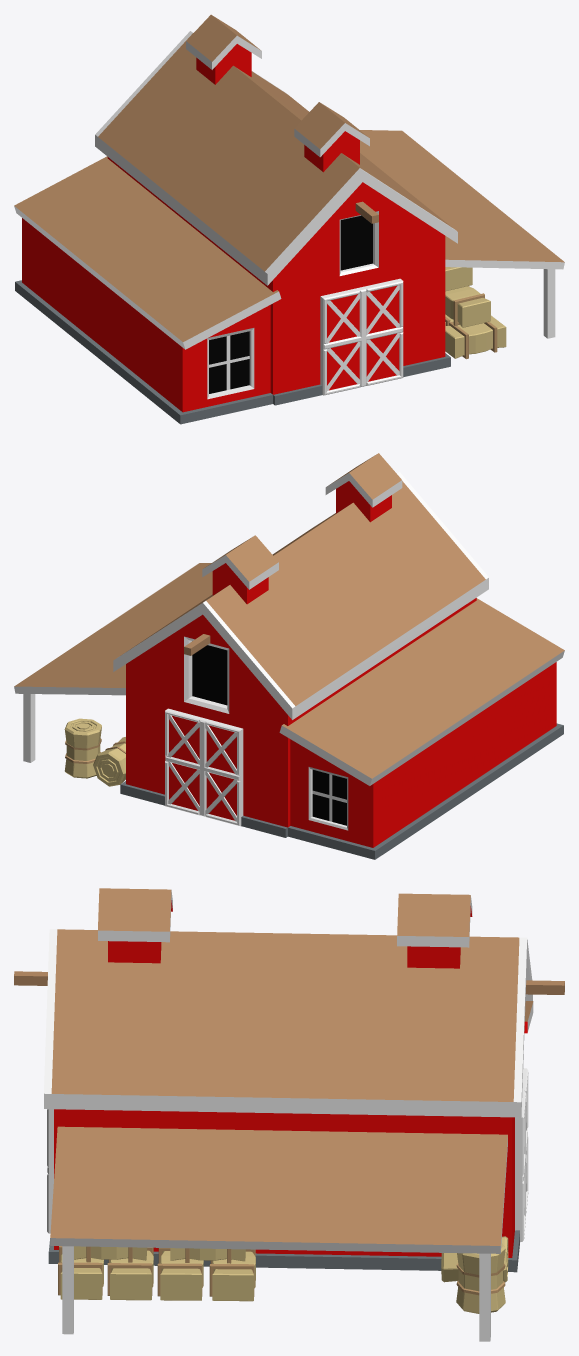
The model's file is Barn.fbx.
3 views of the same model, one above another, from view 1: azimuth 30°, elevation 25°; view 2: azimuth 150°, elevation 25°; view 3: azimuth 270°, elevation 25° (orthographic). The views are drawn at different scales.
Parts seen in each view (by area): view 1: Box003.006; view 2: Box003.006; view 3: Box003.006.
Boxes of the visible parts, <box> form: Box003.006: <box>14,14,564,424</box>; Box003.006: <box>14,453,564,859</box>; Box003.006: <box>14,888,564,1341</box>.
Bounding box in the file's own units: 448 × 276 × 427.
